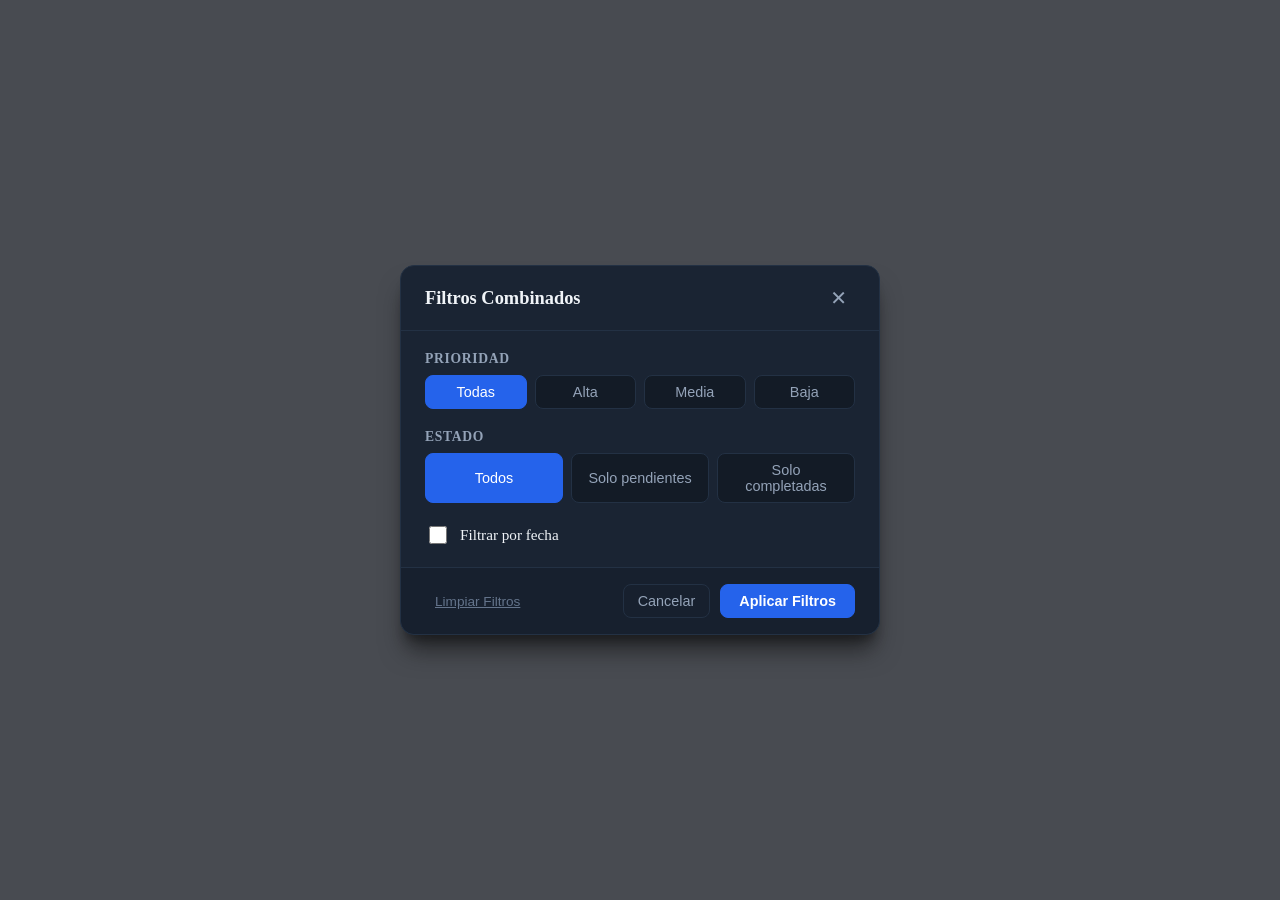
it: Componente Accesible · FilterModal (Buffer Local Desacoplado y Control AND) › debería conmutar la visibilidad de los controles de fecha mediante el checkbox
Expected: the field labelled "fecha puntual" is not shown
Click the checkbox labelled "Filtrar por fecha" at (438, 535), box [429, 526, 447, 544]
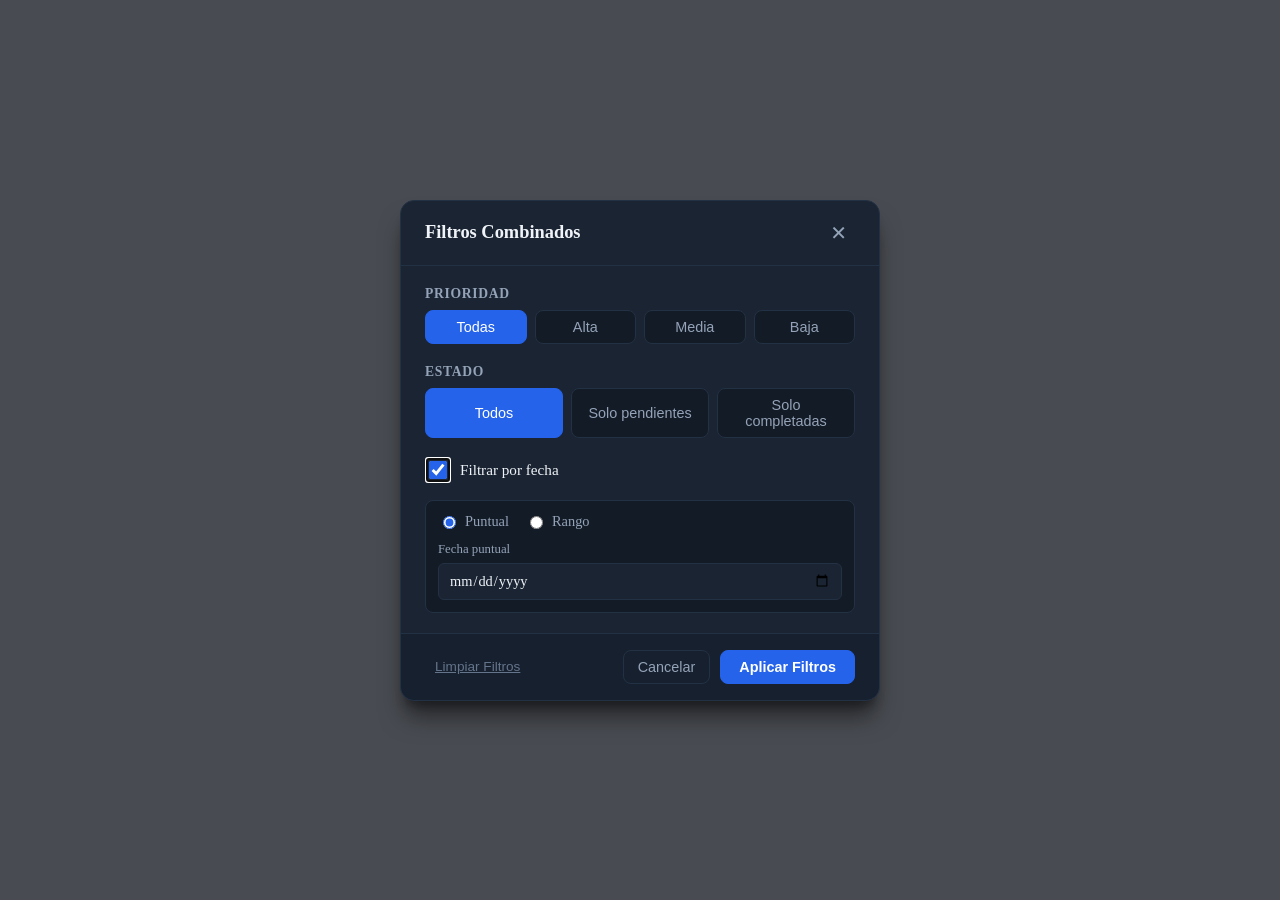
Result: the checkbox labelled "Filtrar por fecha" is checked
Result: the date field labelled "Fecha puntual" is shown at [438, 562, 842, 600]
Click the checkbox labelled "Filtrar por fecha" at (438, 470), box [429, 460, 447, 478]
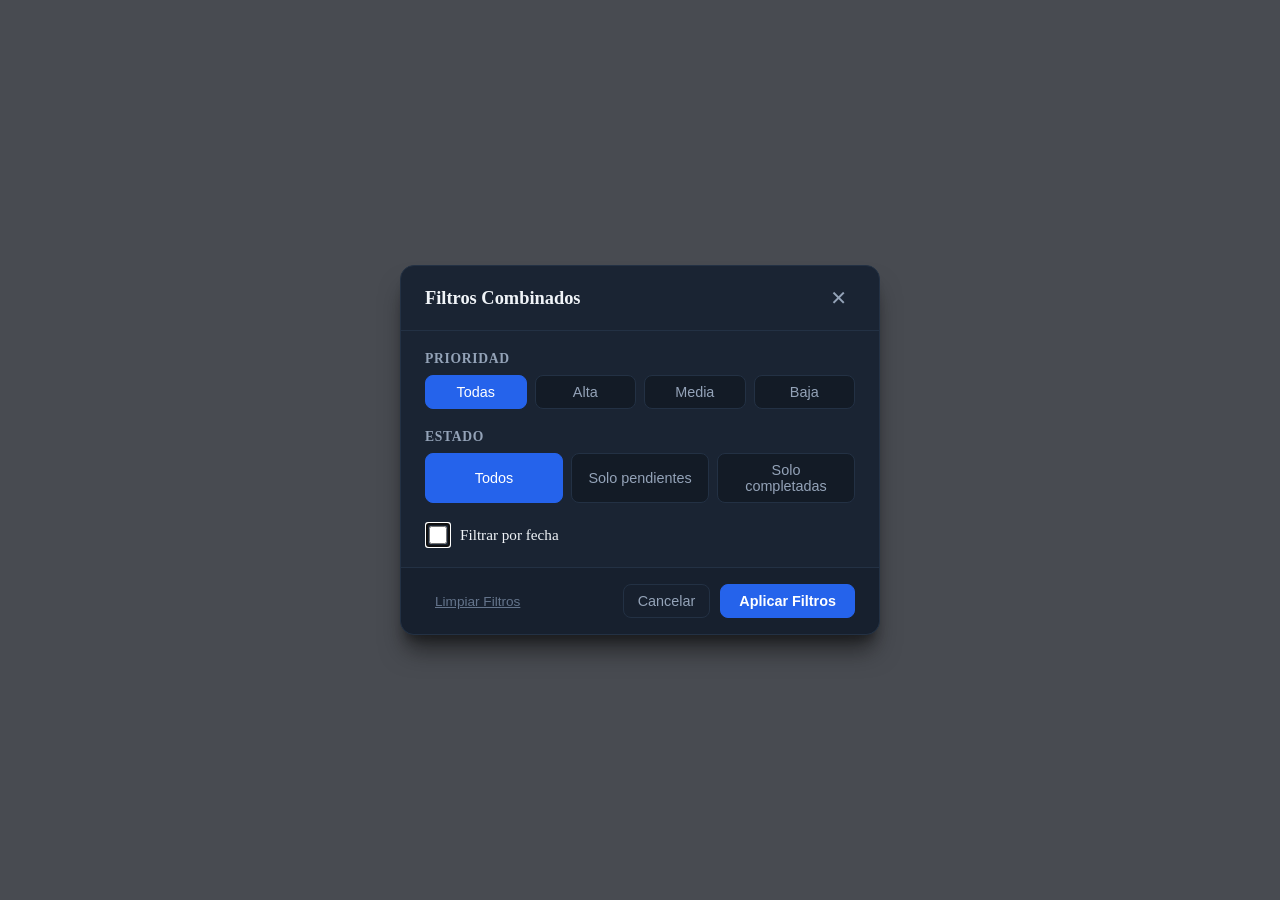
Result: the checkbox labelled "Filtrar por fecha" is not checked at [429, 526, 447, 544]
Result: the label labelled "Fecha puntual" is gone
